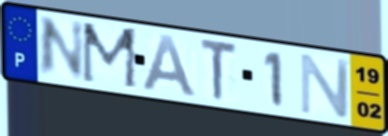1: (262, 51, 286, 110)
A: (140, 32, 200, 100)
M: (80, 20, 142, 93)
N: (299, 52, 353, 120), (36, 15, 87, 81)
T: (199, 36, 240, 104)
